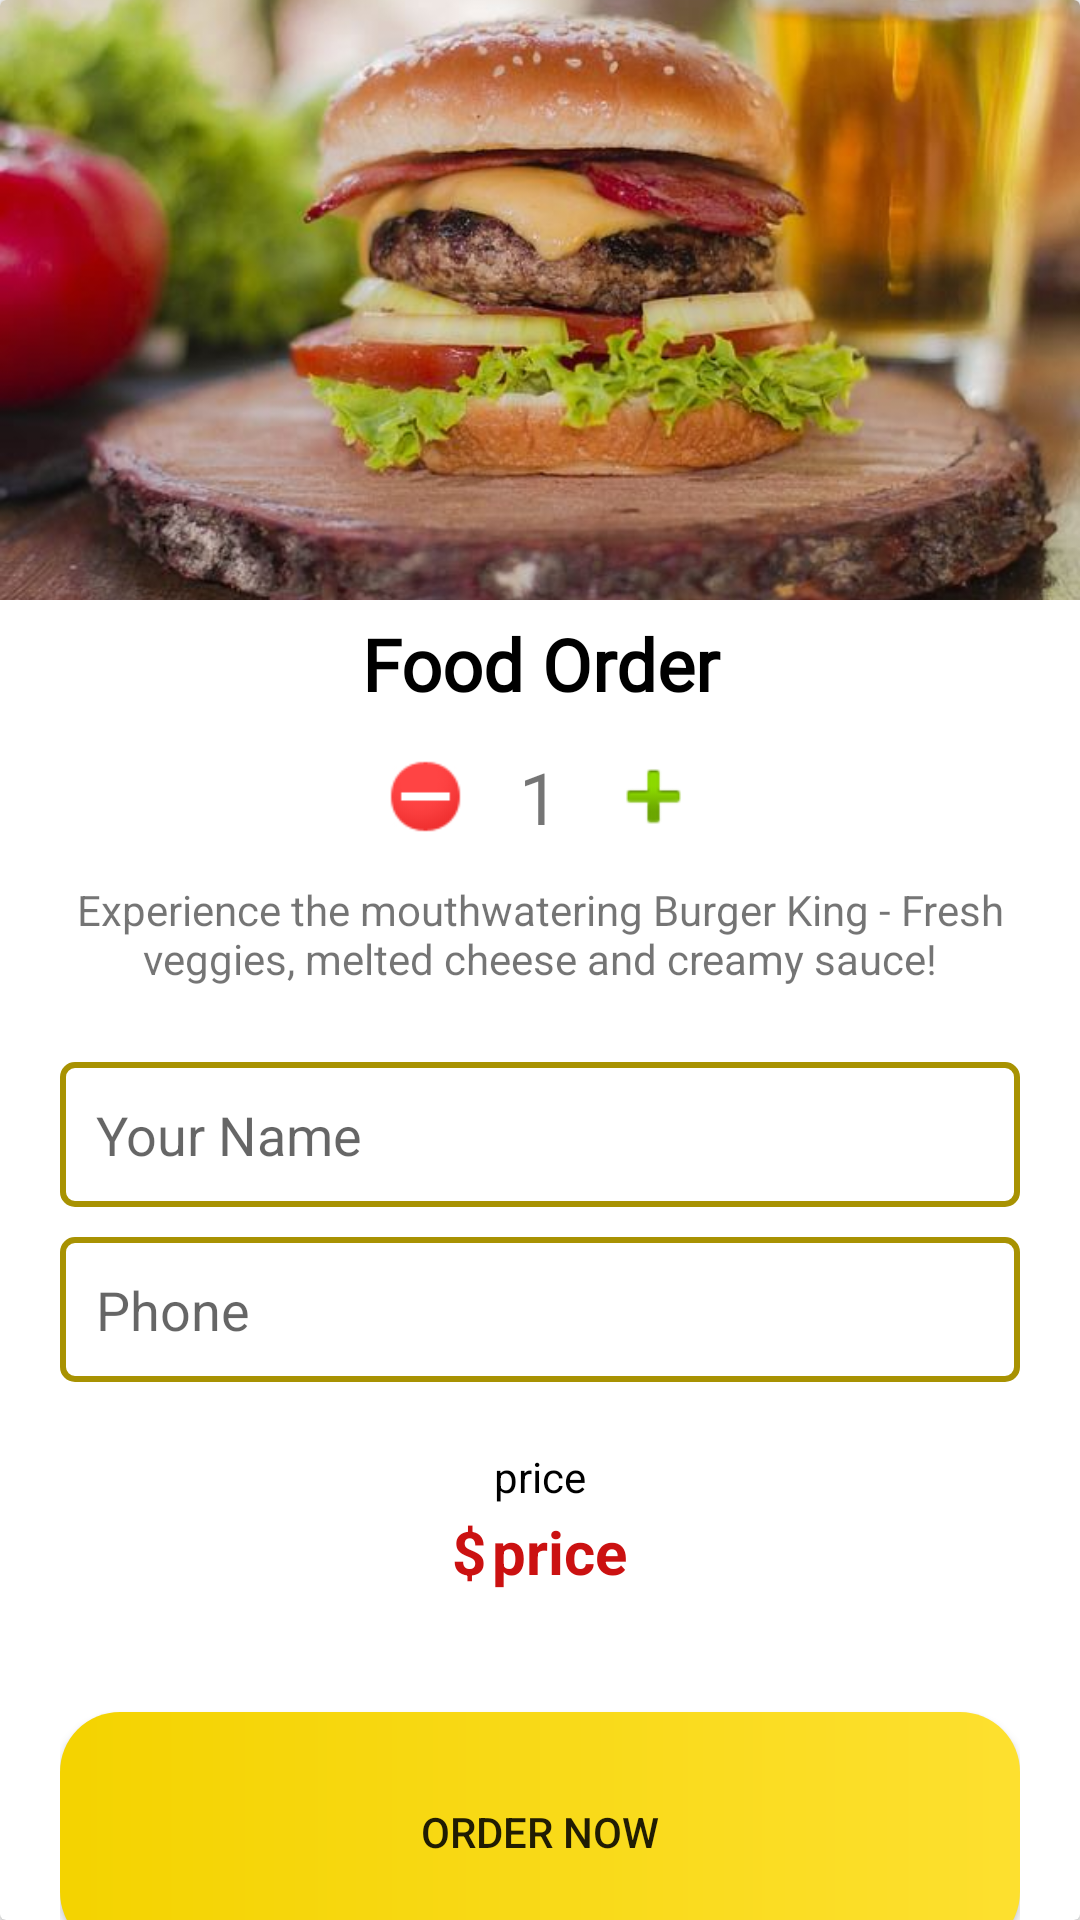

Locate icon controls on the screen. Image size 1080×1920, boxes as (x1,y1,x2,y2).
add: (626,769,681,824)
presence busy: (390,761,461,832)
